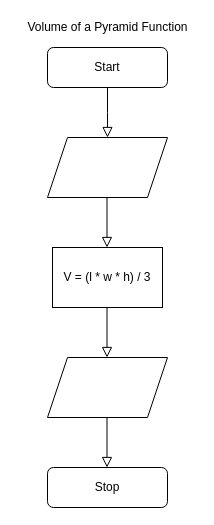
Some shapes in this 214 by 525 pixel diagram are drawn without their labels. Each missing label, with the centre of its shape:
"Enter in length, width, and height of pyramid." goes at point (107, 167).
"Show Volume." goes at point (107, 387).
